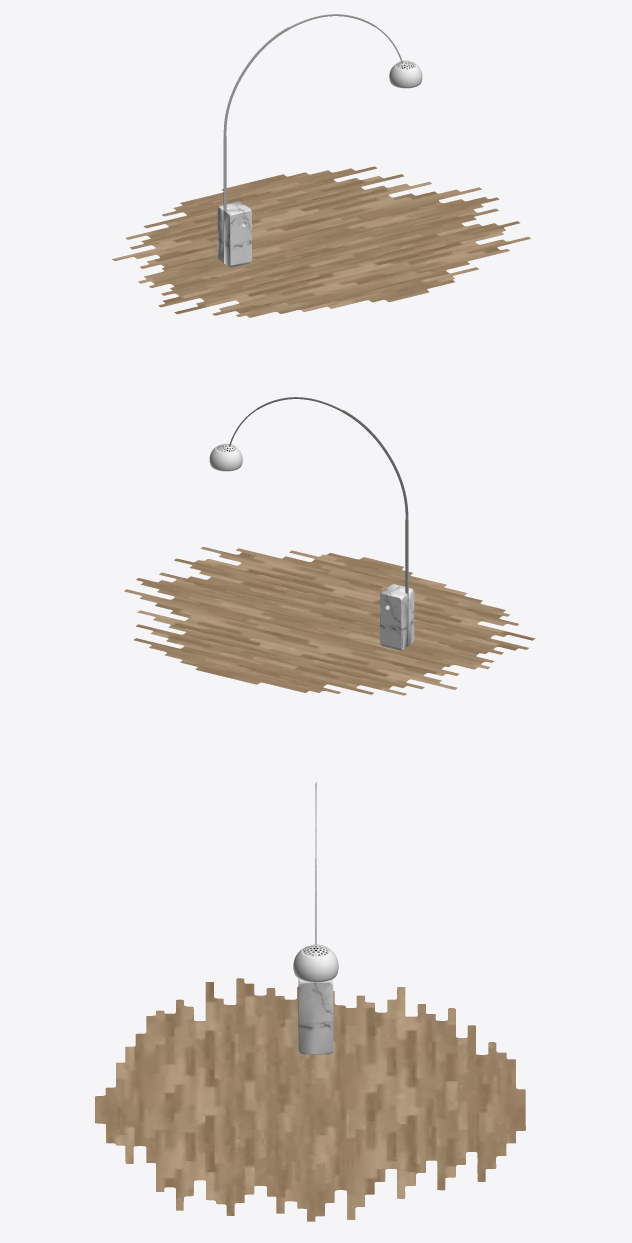
File: lampada-arco.glb
3 renders of one model, top to bottom at view 1: azimuth 30°, elevation 25°; view 2: azimuth 150°, elevation 25°; view 3: azimuth 270°, elevation 25°, orthographic. The views are drawn at different scales.
Visible parts, largest first — view 1: Plane_Fondo_0, marble_low_Arco_0, external_head_low_Arco_0; view 2: Plane_Fondo_0, marble_low_Arco_0, external_head_low_Arco_0; view 3: Plane_Fondo_0, marble_low_Arco_0, external_head_low_Arco_0.
Part boxes in pixels (x1,y1,x2,y2): Plane_Fondo_0: [112, 166, 530, 317]; marble_low_Arco_0: [217, 201, 251, 267]; external_head_low_Arco_0: [389, 61, 422, 88]; Plane_Fondo_0: [124, 547, 534, 695]; marble_low_Arco_0: [380, 584, 414, 650]; external_head_low_Arco_0: [209, 443, 242, 471]; Plane_Fondo_0: [95, 978, 525, 1221]; marble_low_Arco_0: [298, 979, 333, 1054]; external_head_low_Arco_0: [293, 945, 338, 982].
Size of the model in its own units: 4.14 by 2.32 by 4.14.
Materials: 3 (2 with a texture image).
